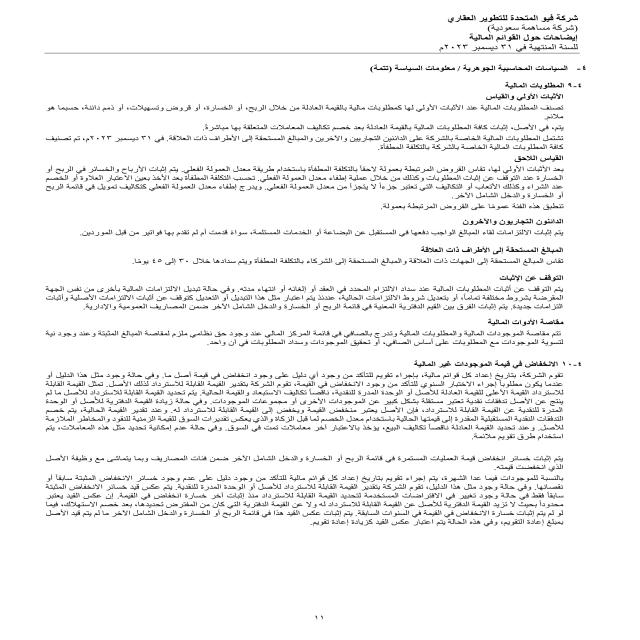notes: (447, 34, 581, 40)
text: (24, 83, 597, 535)
